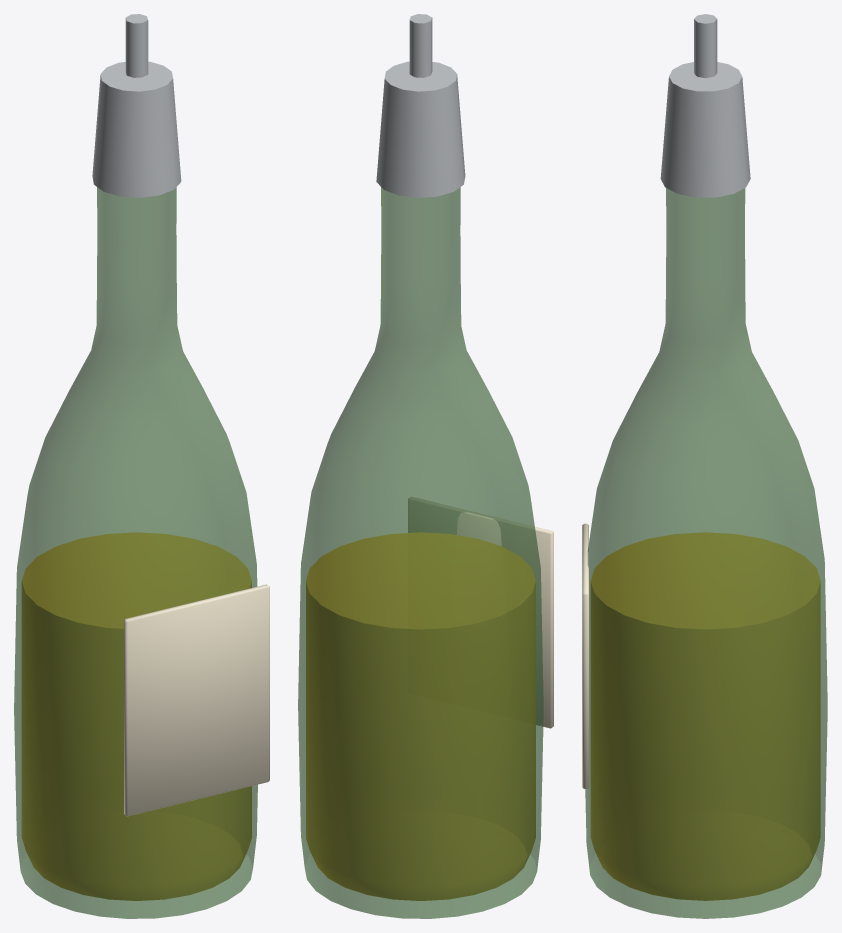
File: bottle_olive_oil_cruet.glb
The picture shows the model from 3 angles, left to right: view 1: azimuth 30°, elevation 25°; view 2: azimuth 150°, elevation 25°; view 3: azimuth 270°, elevation 25°; orthographic projection.
Visible parts, largest first — view 1: bottle_olive_oil_cruet; view 2: bottle_olive_oil_cruet; view 3: bottle_olive_oil_cruet.
Boxes of the visible parts, x1,y1,x2,y2 form: bottle_olive_oil_cruet: (14, 14, 269, 918); bottle_olive_oil_cruet: (298, 14, 553, 918); bottle_olive_oil_cruet: (582, 14, 827, 918).
Size of the model in its own units: 0.0737 by 0.2816 by 0.0736.
